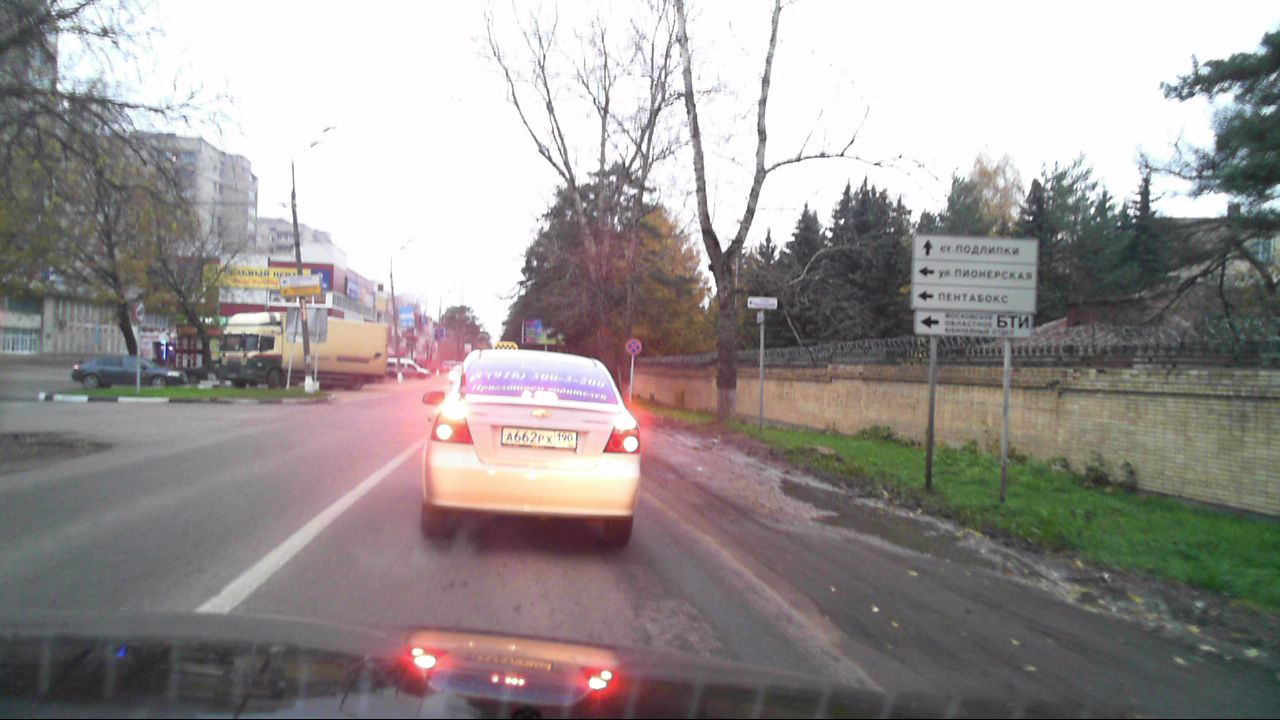No Parking: (624, 339, 641, 356)
